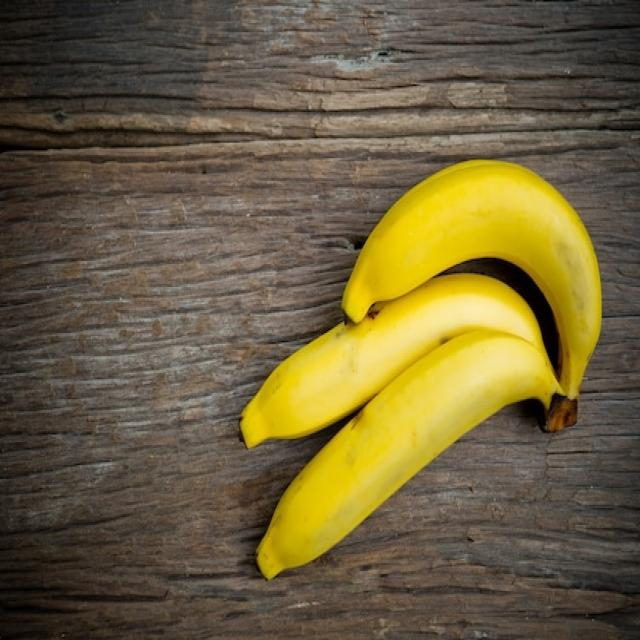banana: (235, 149, 607, 588)
